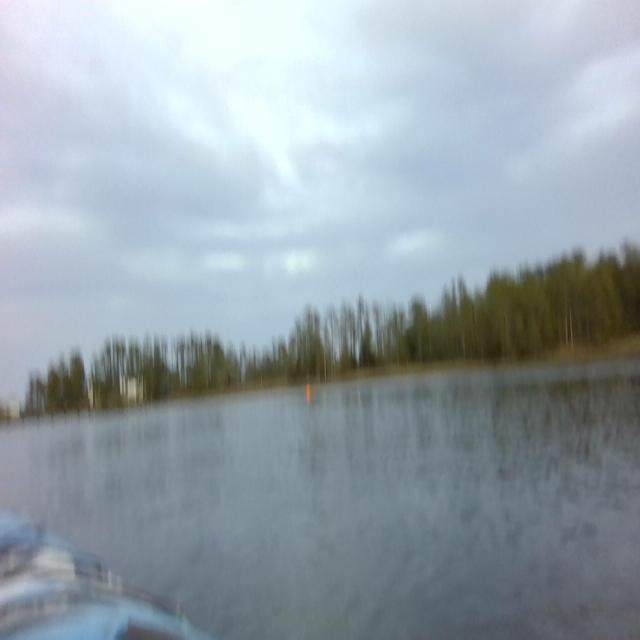Buoy: (304, 378, 314, 406)
